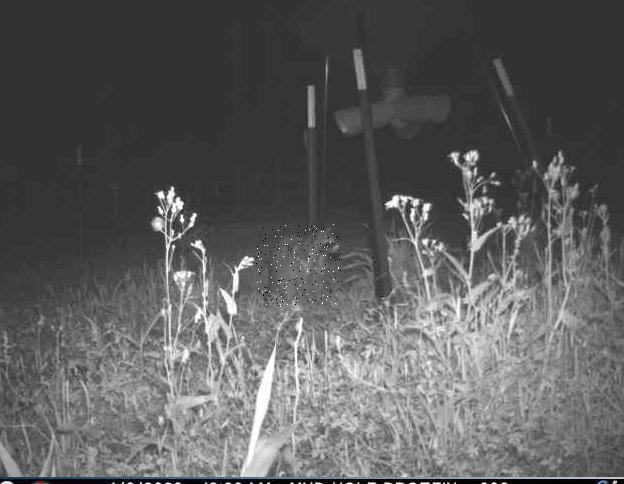Raccoon: (257, 224, 344, 308)
